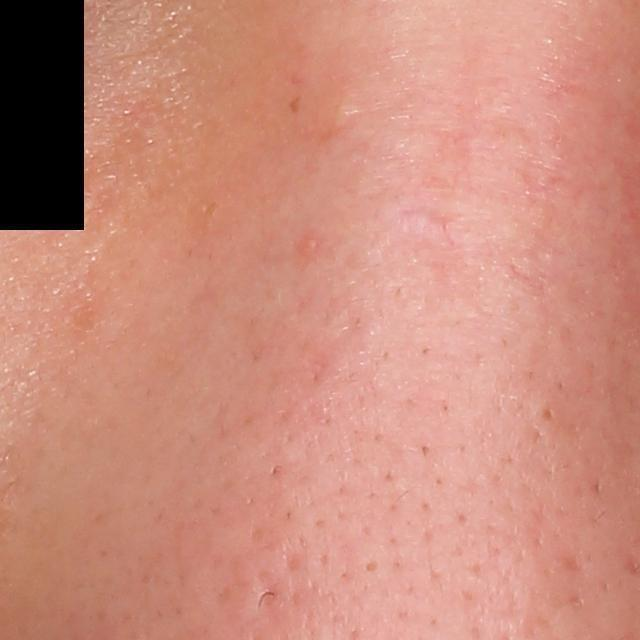atrophic_scar: (250, 574, 291, 635), (282, 540, 305, 577)
comedo: (358, 553, 383, 580), (535, 402, 563, 425)
